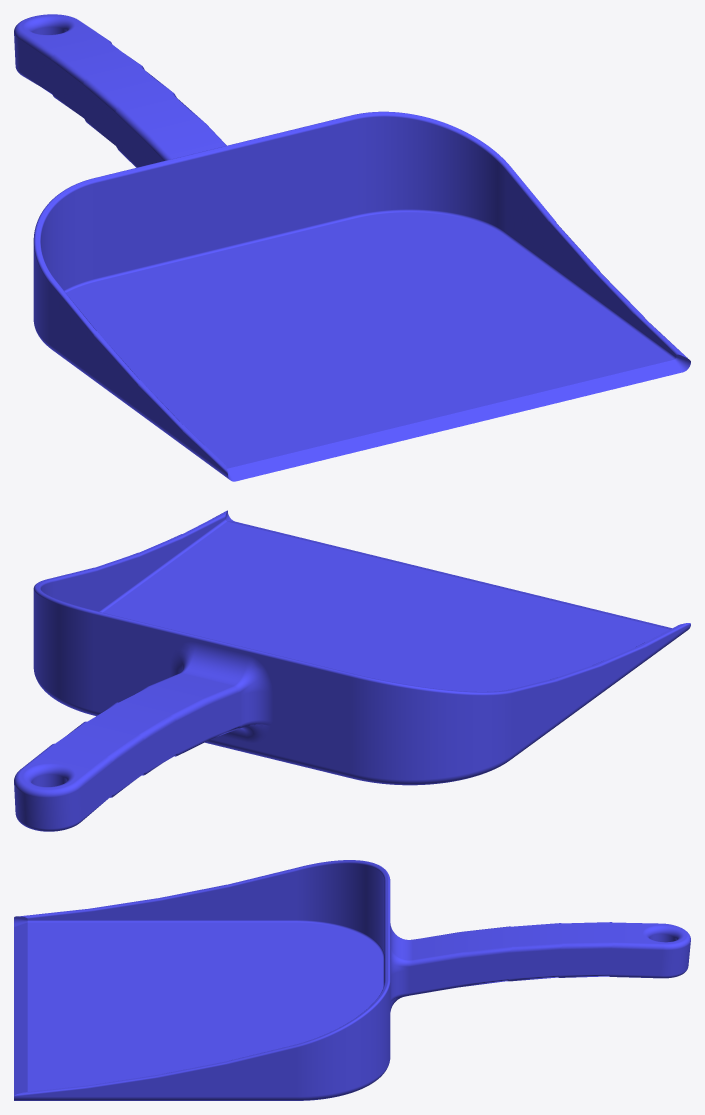
Rendered from dustpan.gltf.
3 renders of one model, top to bottom at view 1: azimuth 30°, elevation 25°; view 2: azimuth 150°, elevation 25°; view 3: azimuth 270°, elevation 25°, orthographic. The views are drawn at different scales.
Visible parts, largest first — view 1: dustpan_clone; view 2: dustpan_clone; view 3: dustpan_clone.
Part boxes in pixels (bbox=[...]): dustpan_clone: bbox=[14, 14, 690, 481]; dustpan_clone: bbox=[14, 510, 690, 831]; dustpan_clone: bbox=[14, 860, 690, 1100].
Size of the model in its own units: 0.225 by 0.0496 by 0.3598.
